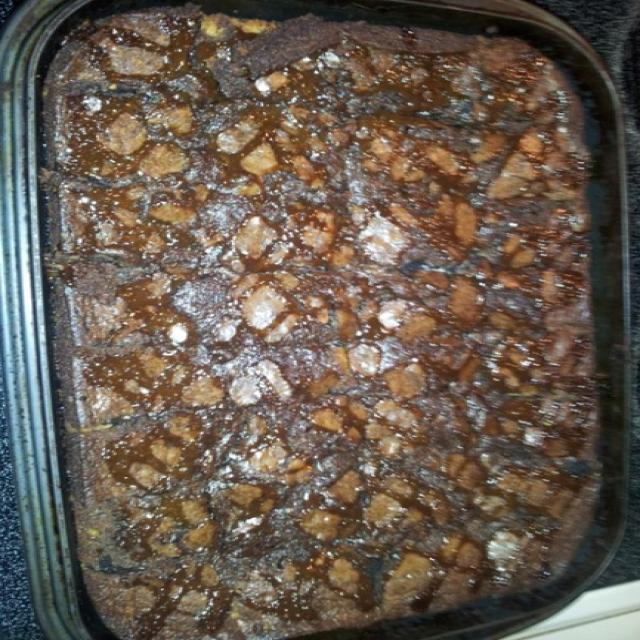蛋糕甜品: (43, 21, 590, 612)
